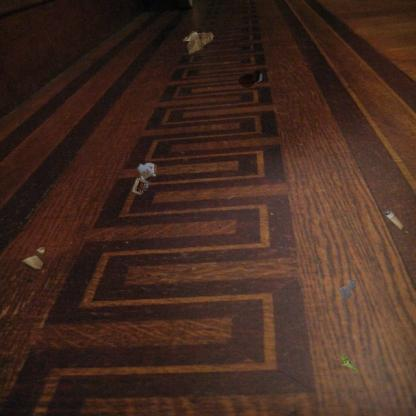dirty: (181, 30, 214, 56), (19, 246, 47, 276), (382, 207, 406, 230), (340, 350, 360, 375), (131, 175, 152, 197), (136, 161, 158, 181)
liquid: (237, 70, 263, 88), (340, 278, 356, 300)
